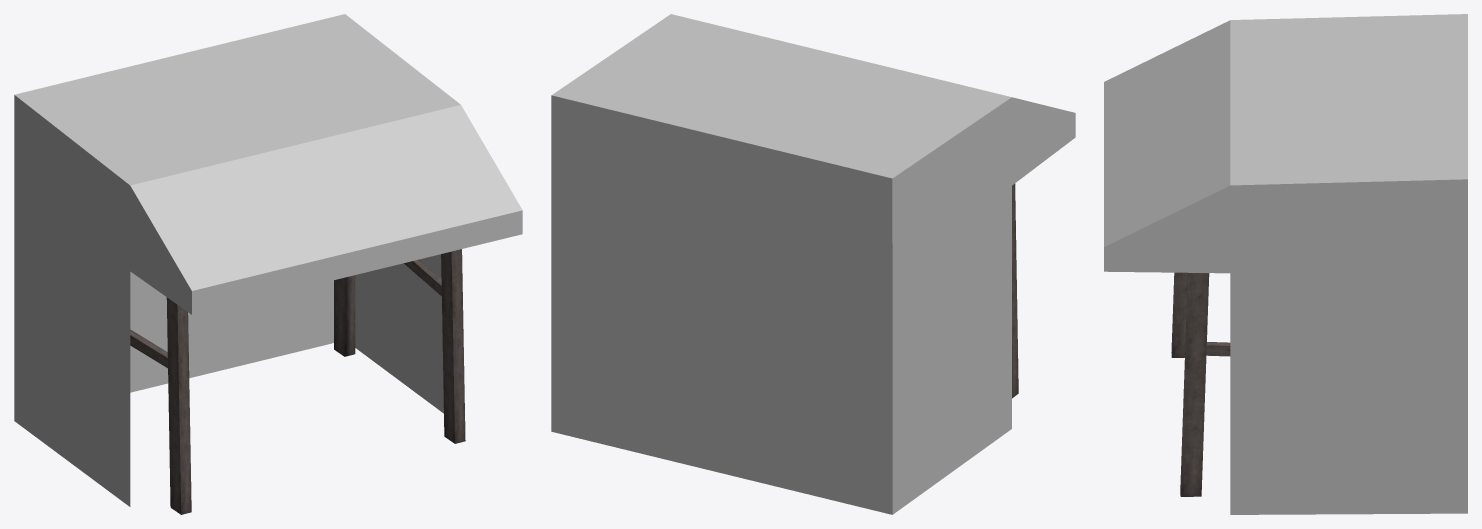
File: senvei.FBX
3 views of the same model, side by side, from view 1: azimuth 30°, elevation 25°; view 2: azimuth 150°, elevation 25°; view 3: azimuth 270°, elevation 25° (orthographic). The views are drawn at different scales.
Parts seen in each view (by area): view 1: polySurface18, polySurface21, polySurface20, polySurface19, polySurface24; view 2: polySurface18, polySurface21; view 3: polySurface18, polySurface20, polySurface21.
Boxes of the visible parts, left/top/right/bottom form: polySurface18: left=14, top=14, right=522, bottom=506; polySurface21: left=166, top=297, right=191, bottom=514; polySurface20: left=441, top=249, right=465, bottom=443; polySurface19: left=334, top=275, right=355, bottom=356; polySurface24: left=130, top=329, right=167, bottom=368; polySurface18: left=551, top=14, right=1075, bottom=514; polySurface21: left=1012, top=183, right=1018, bottom=398; polySurface18: left=1104, top=14, right=1467, bottom=514; polySurface20: left=1180, top=273, right=1209, bottom=496; polySurface21: left=1171, top=272, right=1187, bottom=357.
Bounding box in the file's own units: 31.07 × 29.44 × 28.88.
